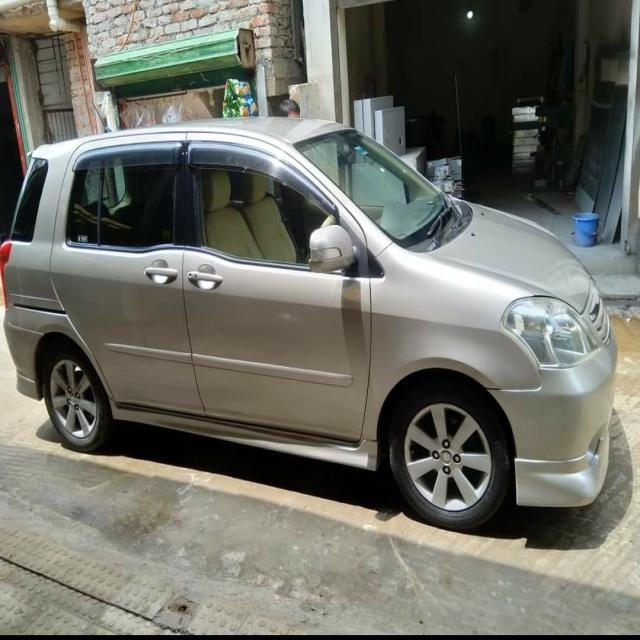silver: (0, 129, 627, 541)
